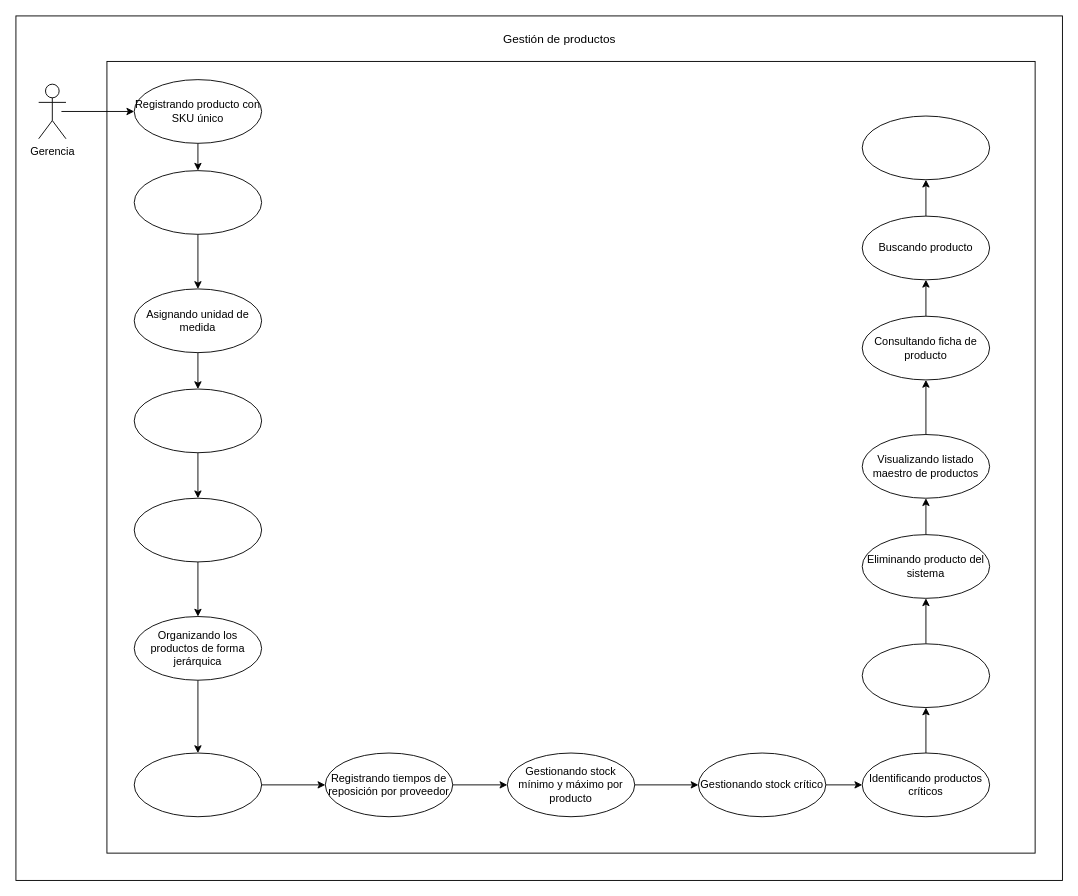
The diagram is 1078 pixels wide and 896 high, and some of its shapes have lost their labels. Here are the shapes that lost their labels. From the top down, the centre of each, then its label:
the point at 925,147: Consultando historial de precios unitarios
the point at 197,202: Definiendo nombre y descripción técnica
the point at 197,420: Registrando detalle de presentación comercial
the point at 197,529: Clasificando por categorías obligatorias
the point at 925,675: Editando información de producto
the point at 197,784: Asociando múltiples proveedores
